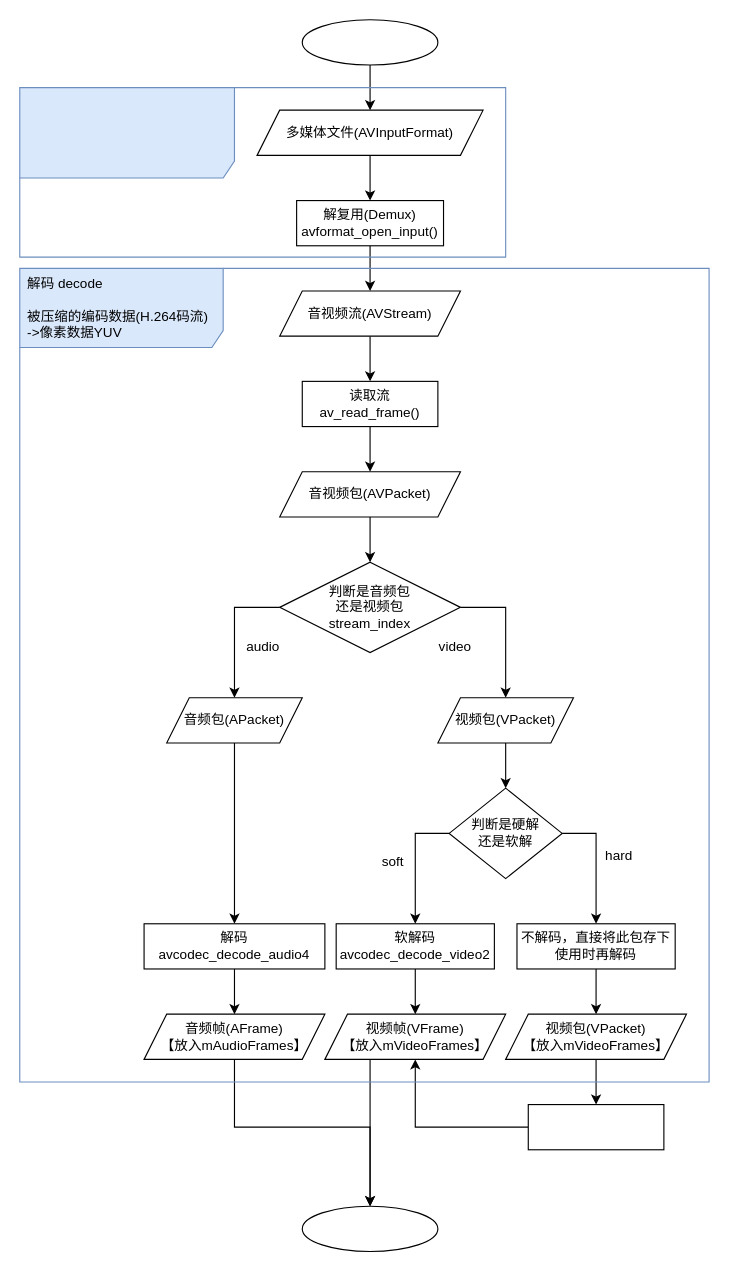
Image size: 729x1271. Some labels were removed from this diagram. The shapes that lost their labels are listed below. From the top down, each one's box as (x1, y1, x2, y2) in pixels, then its label:
(301, 19, 438, 65): 开始
(19, 86, 506, 257): 解复用 demux 封装格式(MP4) ->被压缩的编码数据(H.264码流)
(527, 1103, 664, 1150): 上层获取视频帧
(301, 1205, 438, 1251): 结束
